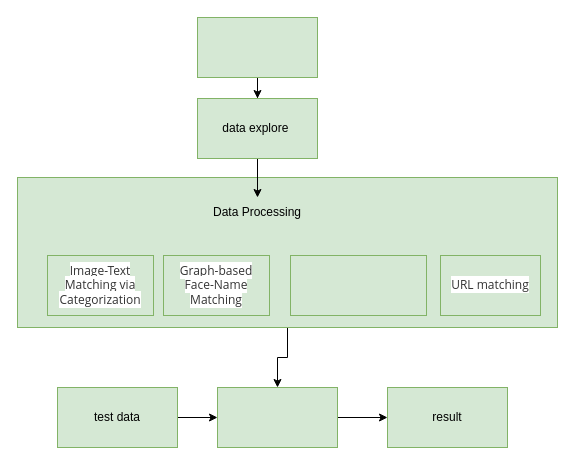
The diagram is 575 pixels wide and 465 high, and some of its shapes have lost their labels. The shapes that lost their labels are listed below. From the top down, each one's centre as x and y in pixels, then its label:
the point at 257,47: data acquisition
the point at 358,285: Image-Text Fusion with Image Captioning and Contextual Embeddings
the point at 277,417: final model
